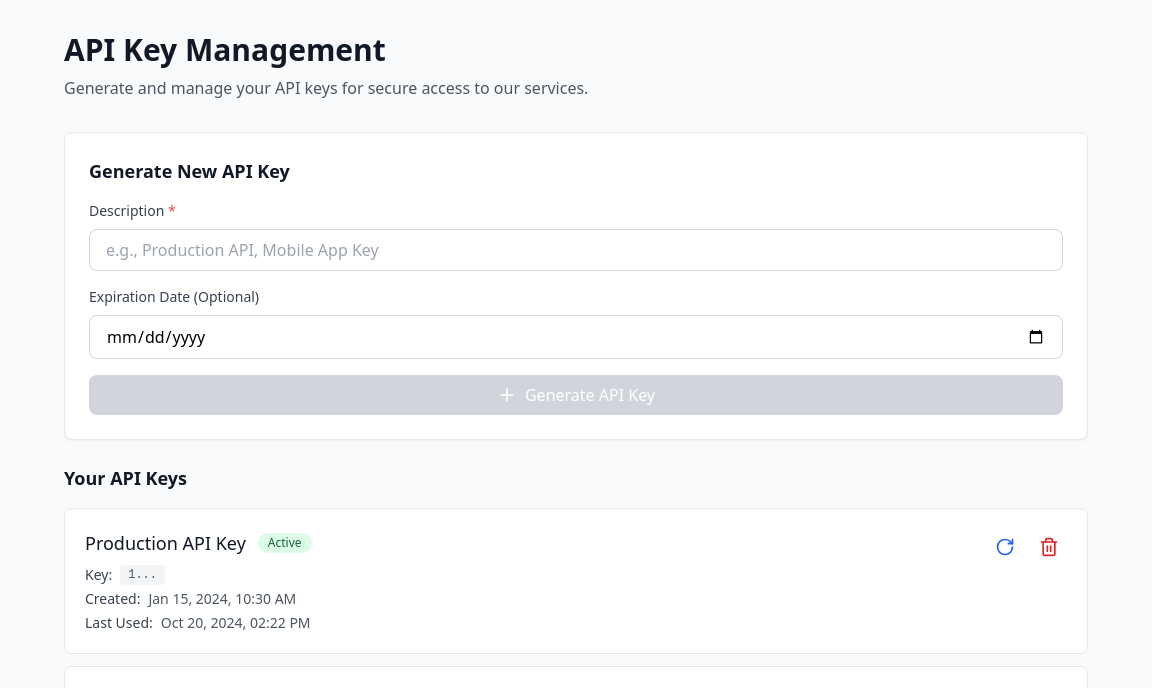
Test: ApiKeyManagementPage (Integration) › shows error toast on generate failure
Fill in the description using the aria-label
Type "Test Key" into the field labelled "Description *" at [576, 250], box [89,229,1063,271]
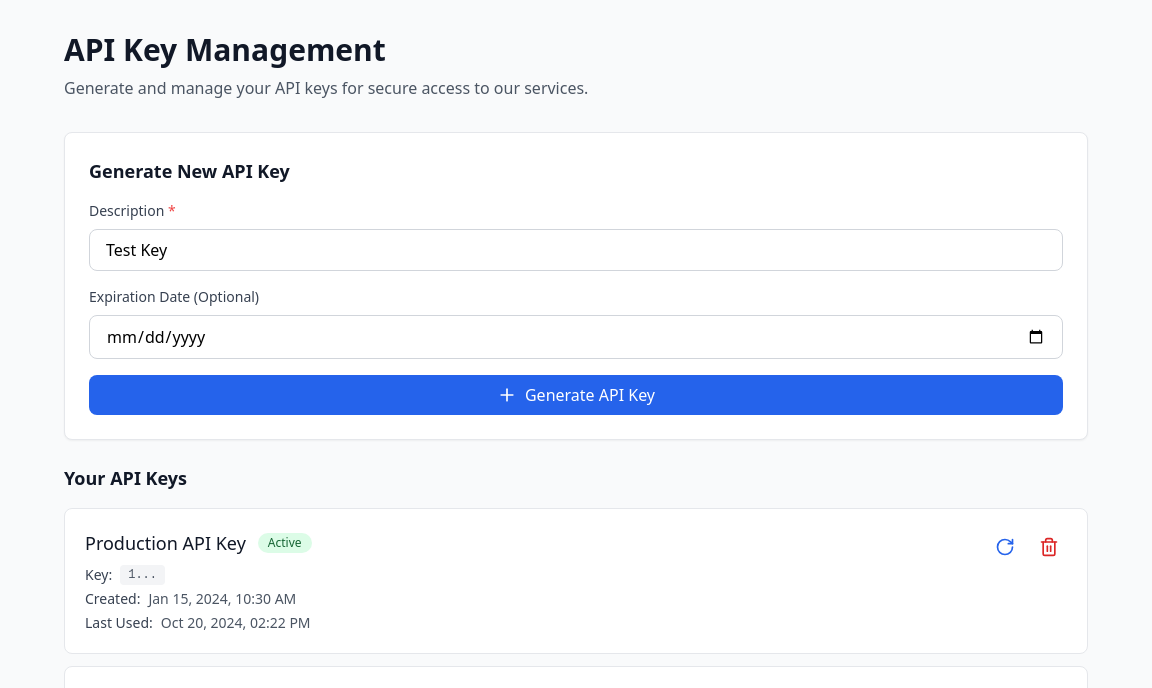
Try generating key, expect error toast
Click the button "Generate API Key" at [576, 395], box [89,375,1063,415]
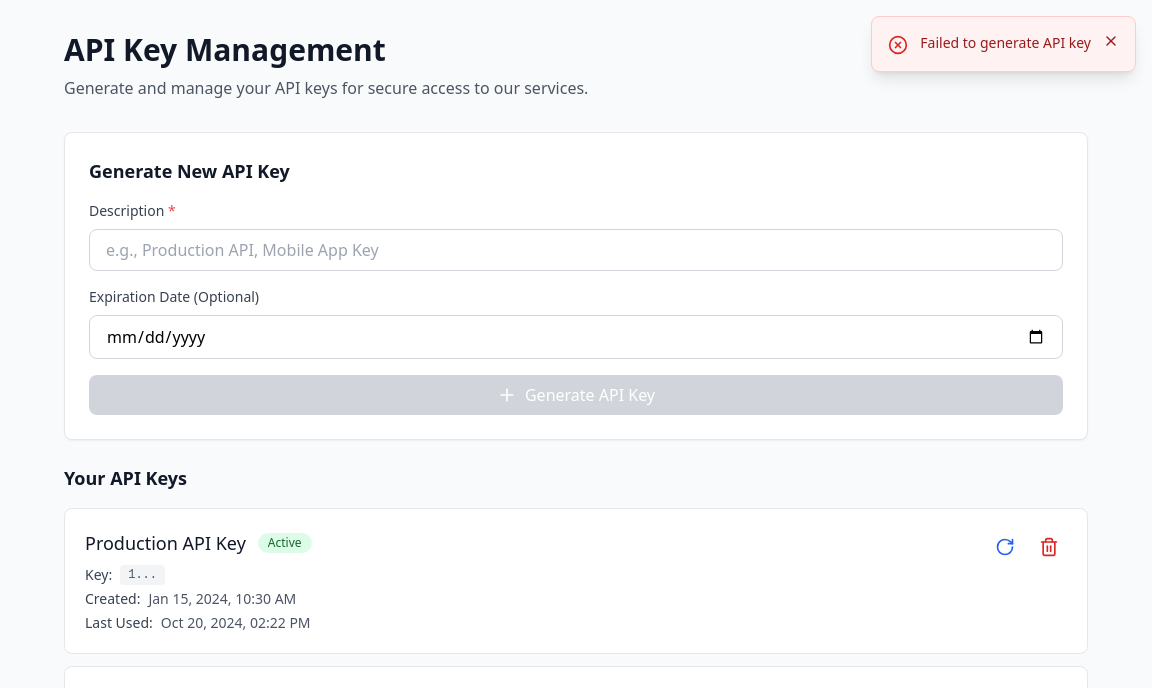
Expected: the text "Failed to generate API key" is shown, [920,33,1091,53]
